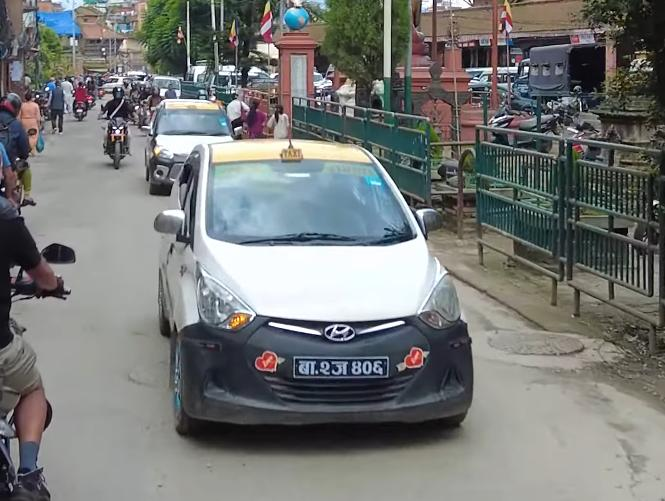bike: (103, 107, 136, 171)
scooter: (483, 102, 558, 159)
taxi: (131, 131, 479, 446), (143, 94, 237, 191)
